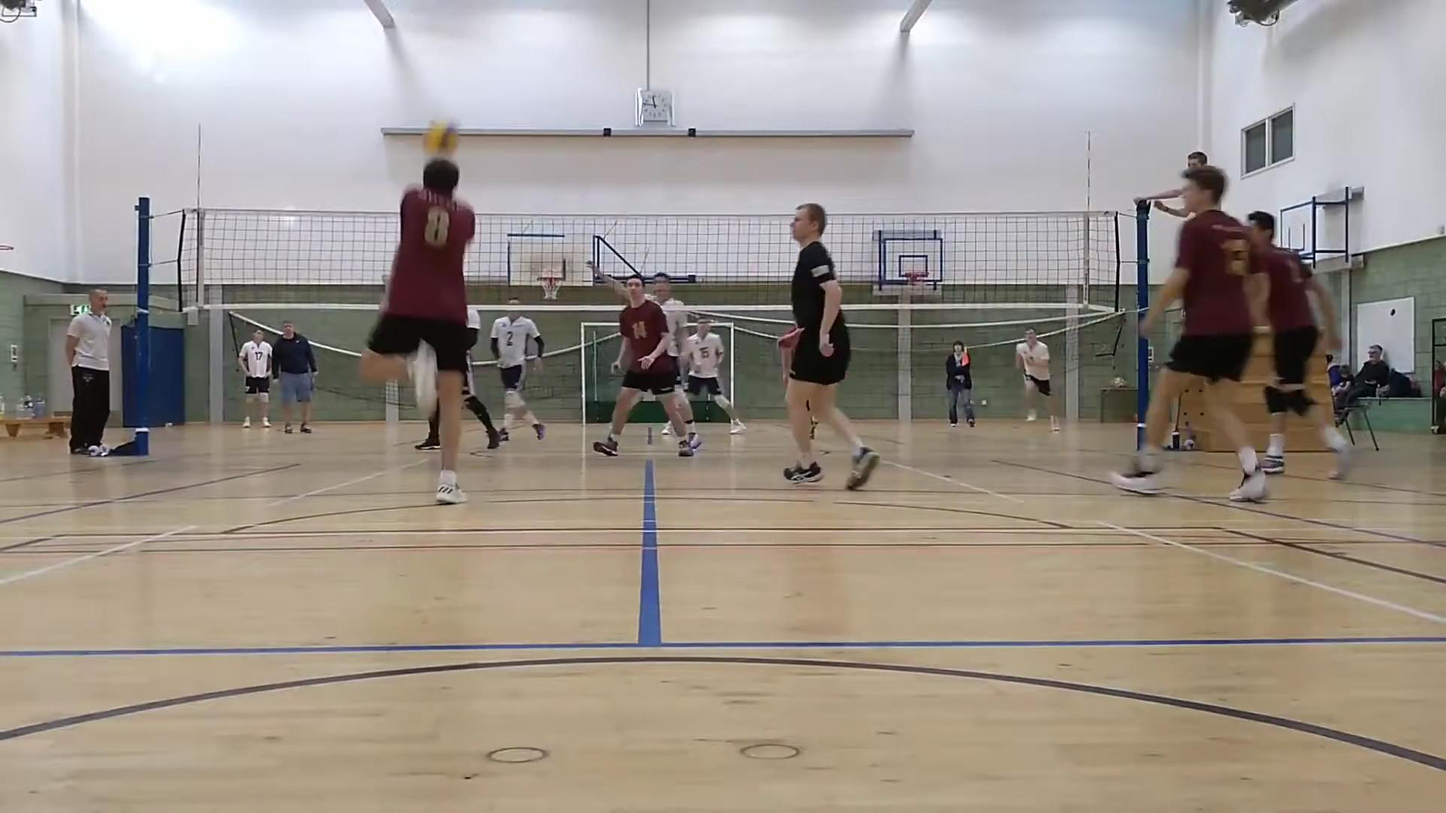ricezione: (361, 155, 479, 507)
